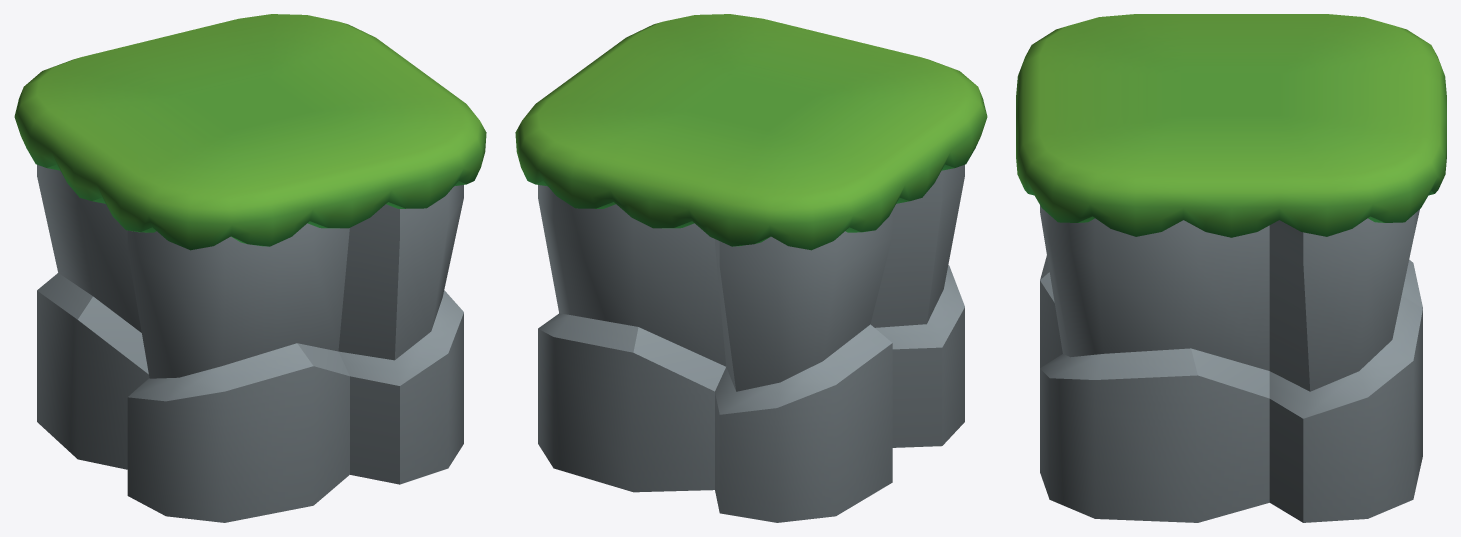
The model's file is Hill_4x4x4_Color1.gltf.
3 renders of one model, left to right at view 1: azimuth 30°, elevation 25°; view 2: azimuth 150°, elevation 25°; view 3: azimuth 270°, elevation 25°, orthographic. The views are drawn at different scales.
Visible parts, largest first — view 1: Hill_4x4x4_Color1; view 2: Hill_4x4x4_Color1; view 3: Hill_4x4x4_Color1.
Boxes of the visible parts, box(x1,y1,x2,y2) form: Hill_4x4x4_Color1: box(14, 14, 486, 522); Hill_4x4x4_Color1: box(515, 14, 987, 522); Hill_4x4x4_Color1: box(1016, 14, 1446, 522).
Bounding box in the file's own units: 4.5 × 4 × 4.5.
Materials: 1 (1 with a texture image).
